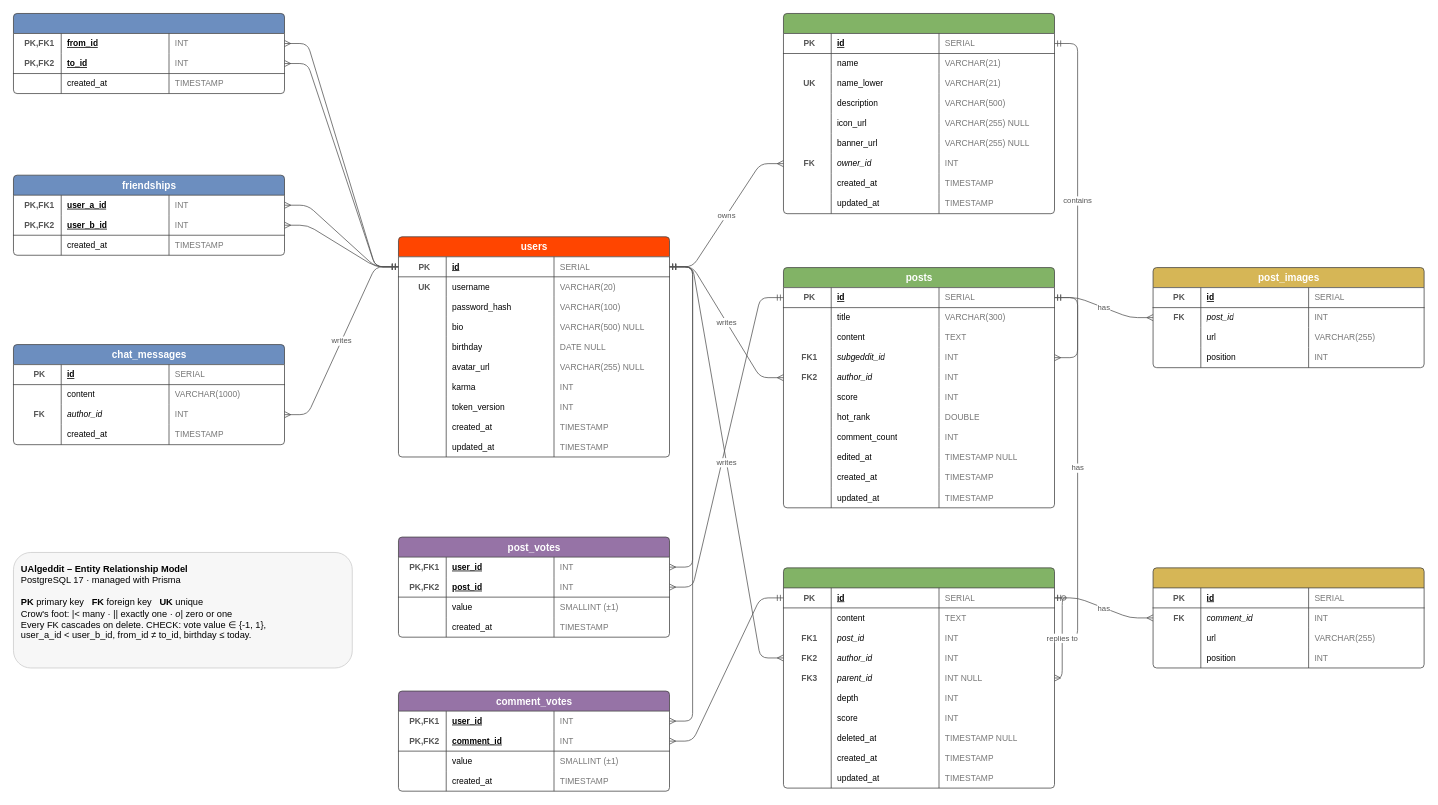
Some shapes in this 1438 by 805 pixel diagram are drawn without their labels. Each missing label, with the box of its shape:
comment_images: (1152, 567, 1424, 668)
comments: (783, 567, 1055, 788)
friend_requests: (13, 13, 285, 94)
subgeddits: (783, 13, 1055, 214)
